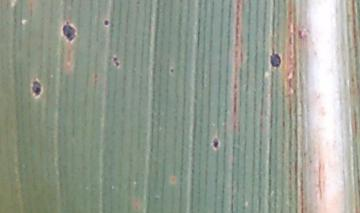tarspot: (60, 18, 78, 44), (268, 45, 282, 70), (29, 77, 44, 97), (210, 134, 221, 151), (110, 55, 122, 70), (102, 17, 112, 28), (297, 28, 304, 40), (168, 66, 176, 75)
